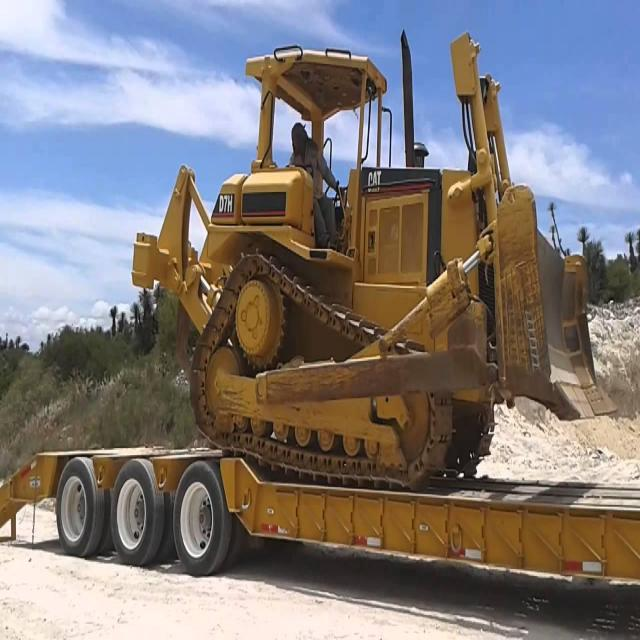Bulldozer: (127, 19, 619, 537)
